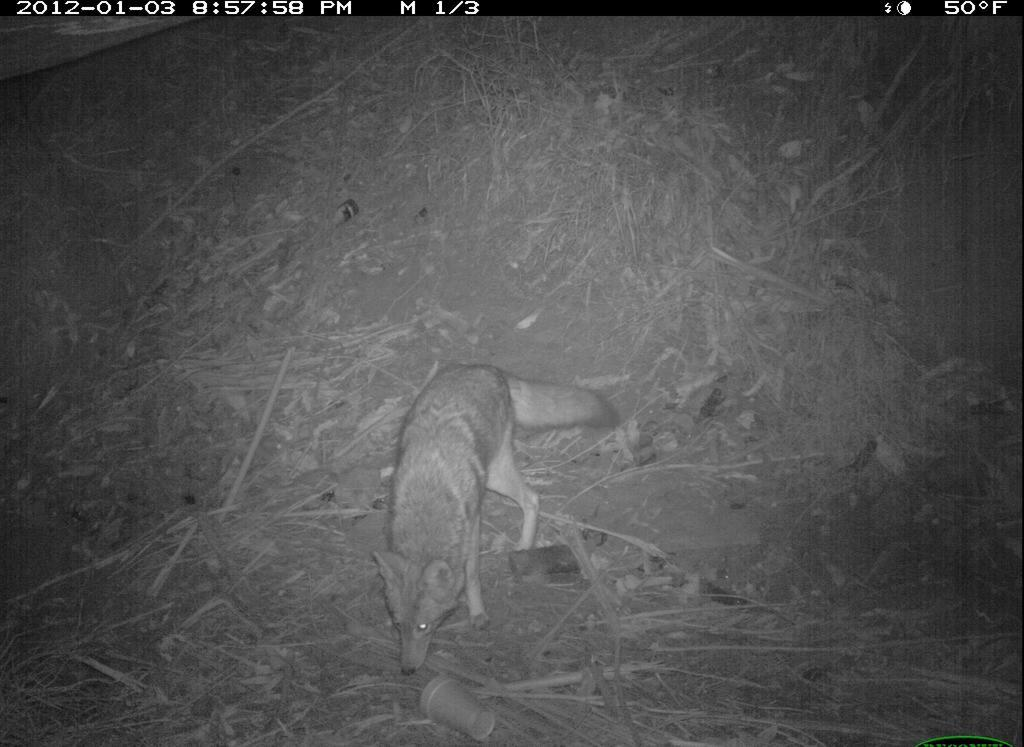coyote: (360, 329, 610, 692)
